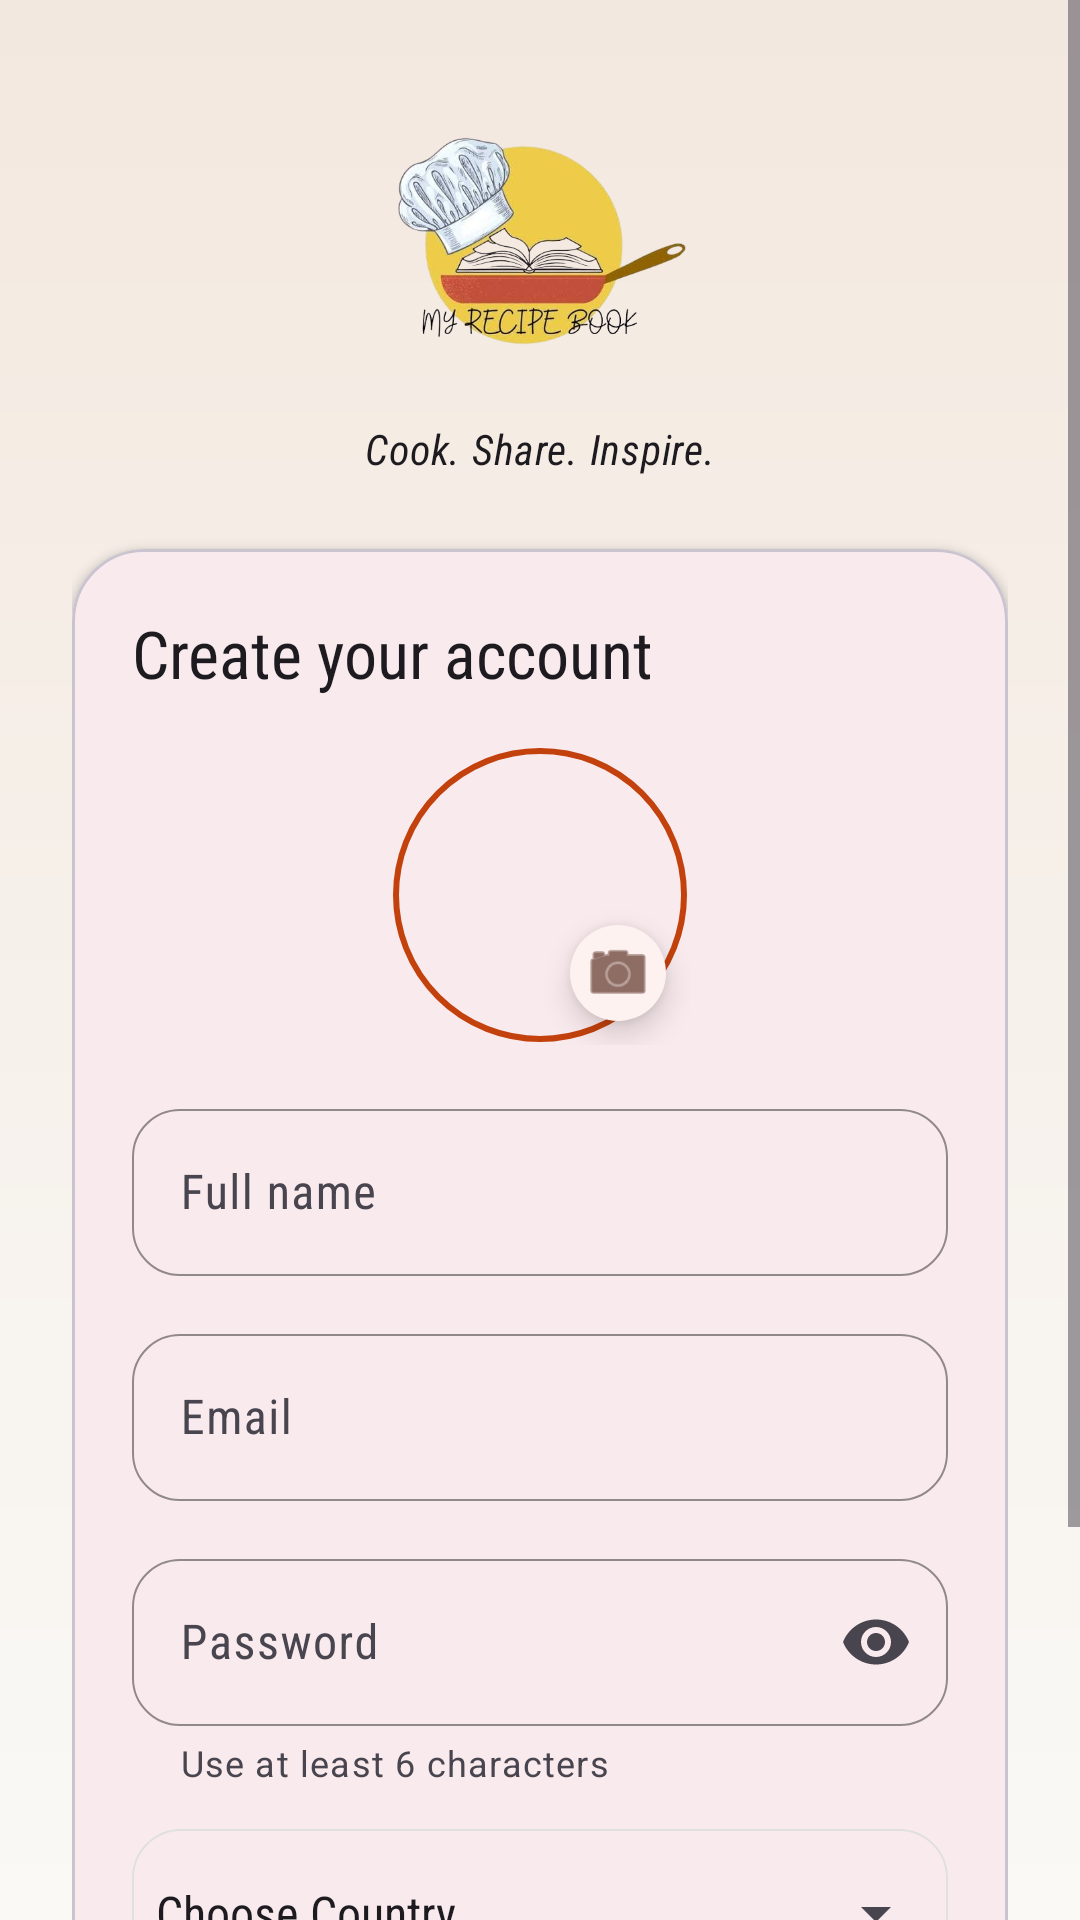

Icon click points for this 1080w x 1920h phone screenshot, format (x=x, y=y):
Select Profile Picture: (x=608, y=972)
